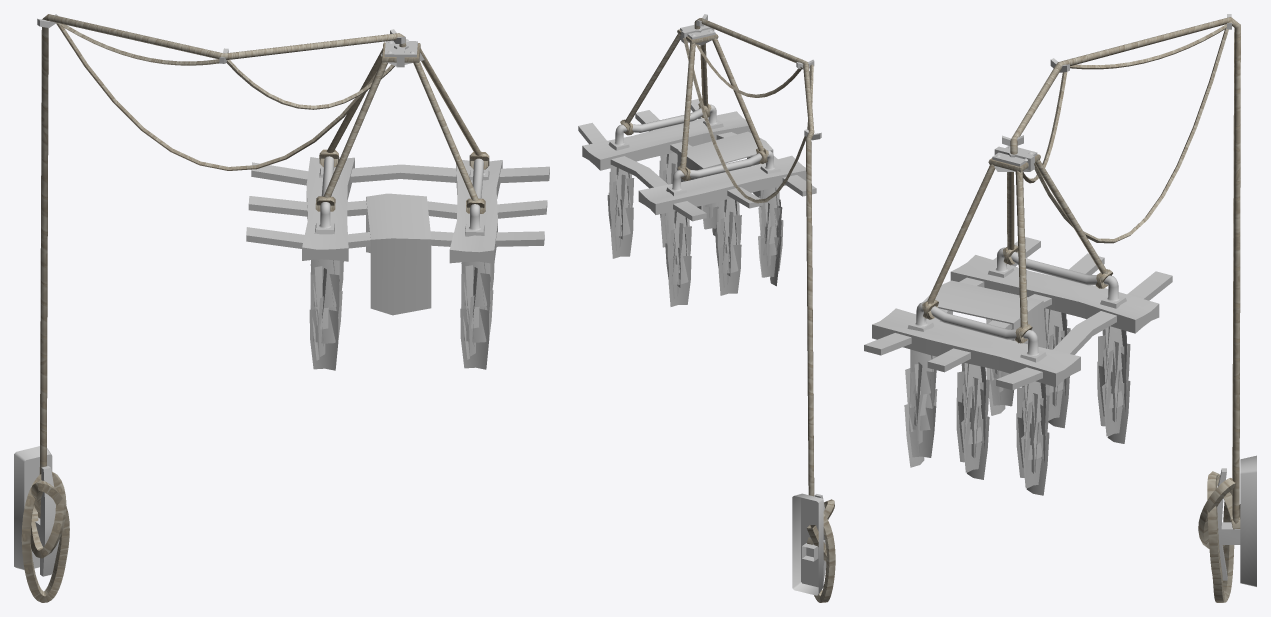
The model's file is Maquina_Secagem.fbx.
3 views of the same model, side by side, from view 1: azimuth 30°, elevation 25°; view 2: azimuth 150°, elevation 25°; view 3: azimuth 270°, elevation 25° (orthographic). The views are drawn at different scales.
Parts seen in each view (by area): view 1: Máquina_Secagem.001, Máquina_Secagem; view 2: Máquina_Secagem.001, Máquina_Secagem; view 3: Máquina_Secagem.001, Máquina_Secagem.
Part boxes in pixels (<box>): Máquina_Secagem.001: <box>14,14,494,602</box>; Máquina_Secagem: <box>246,156,549,263</box>; Máquina_Secagem.001: <box>607,14,835,602</box>; Máquina_Secagem: <box>578,98,816,221</box>; Máquina_Secagem.001: <box>904,14,1256,602</box>; Máquina_Secagem: <box>864,237,1172,390</box>.
Bounding box in the file's own units: 327 × 431 × 260.
